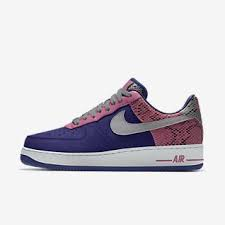nike: (96, 103, 207, 140)
